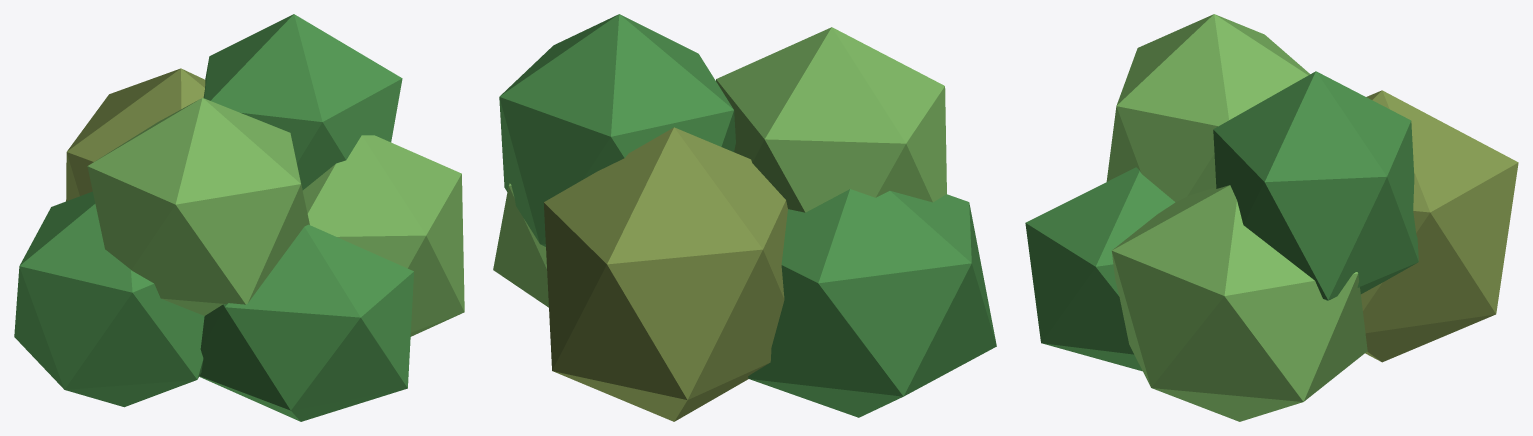
The model's file is shrub_dense_1p8m.glb.
3 renders of one model, left to right at view 1: azimuth 30°, elevation 25°; view 2: azimuth 150°, elevation 25°; view 3: azimuth 270°, elevation 25°, orthographic. The views are drawn at different scales.
Parts seen in each view (by area): view 1: shrub_dense_mass_05, shrub_dense_mass_04, shrub_dense_mass_01, shrub_dense_mass_06, shrub_dense_mass_02, shrub_dense_mass_03; view 2: shrub_dense_mass_03, shrub_dense_mass_01, shrub_dense_mass_05, shrub_dense_mass_06, shrub_dense_mass_02; view 3: shrub_dense_mass_02, shrub_dense_mass_06, shrub_dense_mass_03, shrub_dense_mass_05, shrub_dense_mass_04.
Part boxes in pixels (x1,y1,x2,y2): shrub_dense_mass_05: (87, 98, 309, 315); shrub_dense_mass_04: (199, 224, 413, 421); shrub_dense_mass_01: (14, 191, 204, 407); shrub_dense_mass_06: (203, 14, 402, 190); shrub_dense_mass_02: (303, 135, 464, 336); shrub_dense_mass_03: (66, 68, 205, 201); shrub_dense_mass_03: (543, 127, 787, 421); shrub_dense_mass_01: (748, 189, 996, 417); shrub_dense_mass_05: (716, 27, 946, 212); shrub_dense_mass_06: (499, 14, 735, 246); shrub_dense_mass_02: (493, 183, 548, 307); shrub_dense_mass_02: (1111, 185, 1367, 421); shrub_dense_mass_06: (1213, 71, 1418, 300); shrub_dense_mass_03: (1361, 90, 1518, 362); shrub_dense_mass_05: (1106, 14, 1309, 202); shrub_dense_mass_04: (1025, 167, 1175, 371).
Size of the model in its own units: 1.96 by 1.48 by 1.94.
